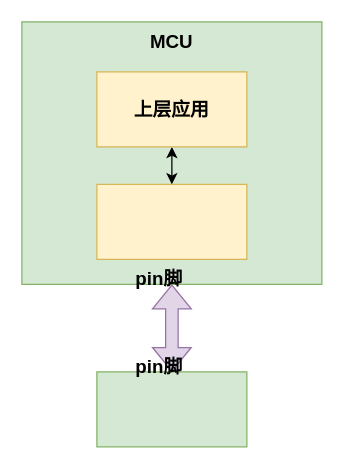
Some shapes in this 344 by 469 pixel diagram are drawn without their labels. The shapes that lost their labels are listed below. From the top down, each one's centre as x and y in pixels, then its label:
At (x=171, y=221): "Flash 驱动".
At (x=171, y=409): "Macronix Flash".
